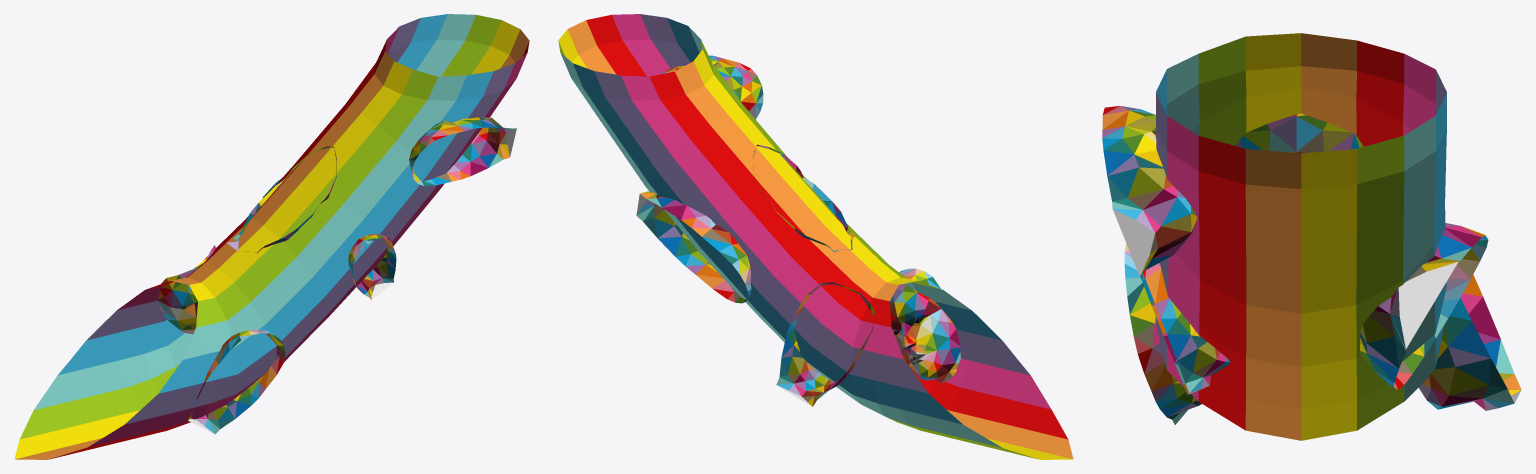
The model's file is SM_Tunel.fbx.
The picture shows the model from 3 angles, left to right: view 1: azimuth 30°, elevation 25°; view 2: azimuth 150°, elevation 25°; view 3: azimuth 270°, elevation 25°; orthographic projection. The views are drawn at different scales.
Visible parts, largest first — view 1: TUNEL, TUNEL_CABEZAS; view 2: TUNEL, TUNEL_CABEZAS; view 3: TUNEL, TUNEL_CABEZAS.
Boxes of the visible parts, x1,y1,x2,y2 form: TUNEL: (14, 14, 529, 459); TUNEL_CABEZAS: (158, 117, 516, 434); TUNEL: (558, 14, 1073, 459); TUNEL_CABEZAS: (636, 55, 960, 406); TUNEL: (1156, 33, 1446, 440); TUNEL_CABEZAS: (1102, 106, 1521, 424).
Bounding box in the file's own units: 1367 × 792 × 490.
1 material, 1 textured.
